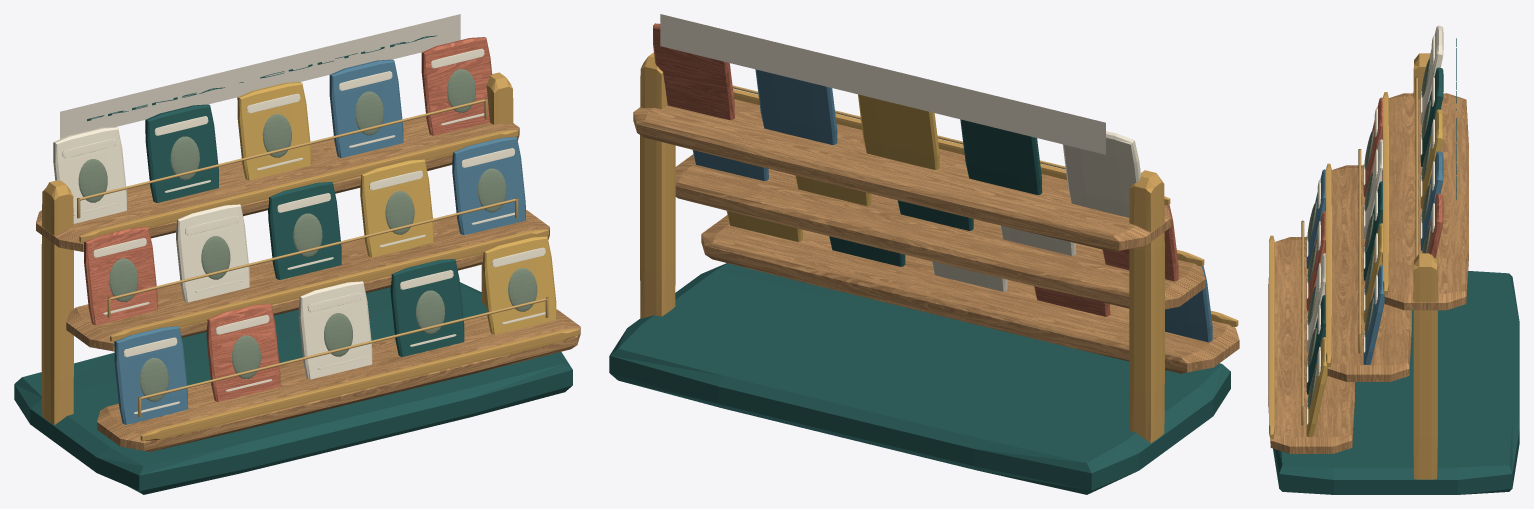
Rendered from hiperreal.glb.
3 views of the same model, side by side, from view 1: azimuth 30°, elevation 25°; view 2: azimuth 150°, elevation 25°; view 3: azimuth 270°, elevation 25° (orthographic). The views are drawn at different scales.
Visible parts, largest first — view 1: Native component 1, Native component 10, Native component 5, Native component 16, Native component 49, Native component 13, Native component 67, Native component 64, Native component 0, Hiperreal varilla retención 1, Hiperreal varilla retención 0, Hiperreal varilla retención 2; view 2: Native component 1, Native component 10, Native component 5, Native component 0, Native component 13, Native component 16, Native component 64, Native component 67; view 3: Native component 10, Native component 1, Native component 5, Native component 16, Native component 49, Native component 67, Native component 13, Native component 64, Hiperreal varilla retención 2, Hiperreal varilla retención 0, Hiperreal varilla retención 1.
Part boxes in pixels (x1,y1,x2,y2): Native component 1: [14, 104, 572, 494]; Native component 10: [36, 116, 580, 451]; Native component 5: [41, 72, 579, 441]; Native component 16: [53, 48, 545, 414]; Native component 49: [78, 69, 537, 401]; Native component 13: [114, 59, 525, 424]; Native component 67: [237, 82, 556, 334]; Native component 64: [84, 37, 492, 401]; Native component 0: [60, 14, 460, 138]; Hiperreal varilla retención 1: [107, 199, 518, 300]; Hiperreal varilla retención 0: [139, 298, 548, 399]; Hiperreal varilla retención 2: [76, 99, 487, 200]; Native component 1: [609, 119, 1230, 494]; Native component 10: [633, 99, 1239, 373]; Native component 5: [640, 52, 1238, 442]; Native component 0: [660, 14, 1105, 154]; Native component 13: [692, 69, 1212, 342]; Native component 16: [931, 131, 1140, 291]; Native component 64: [653, 23, 1178, 316]; Native component 67: [726, 94, 939, 241]; Native component 10: [1268, 93, 1468, 453]; Native component 1: [1273, 67, 1519, 494]; Native component 5: [1268, 53, 1437, 479]; Native component 16: [1306, 25, 1443, 424]; Native component 49: [1307, 58, 1430, 408]; Native component 67: [1306, 109, 1443, 436]; Native component 13: [1306, 151, 1443, 364]; Native component 64: [1306, 97, 1443, 310]; Hiperreal varilla retención 2: [1415, 78, 1418, 257]; Hiperreal varilla retención 0: [1301, 222, 1303, 408]; Hiperreal varilla retención 1: [1358, 150, 1360, 336].
Bounding box in the file's own units: 2 × 1.3 × 1.01.
Materials: 11 (2 with a texture image).
